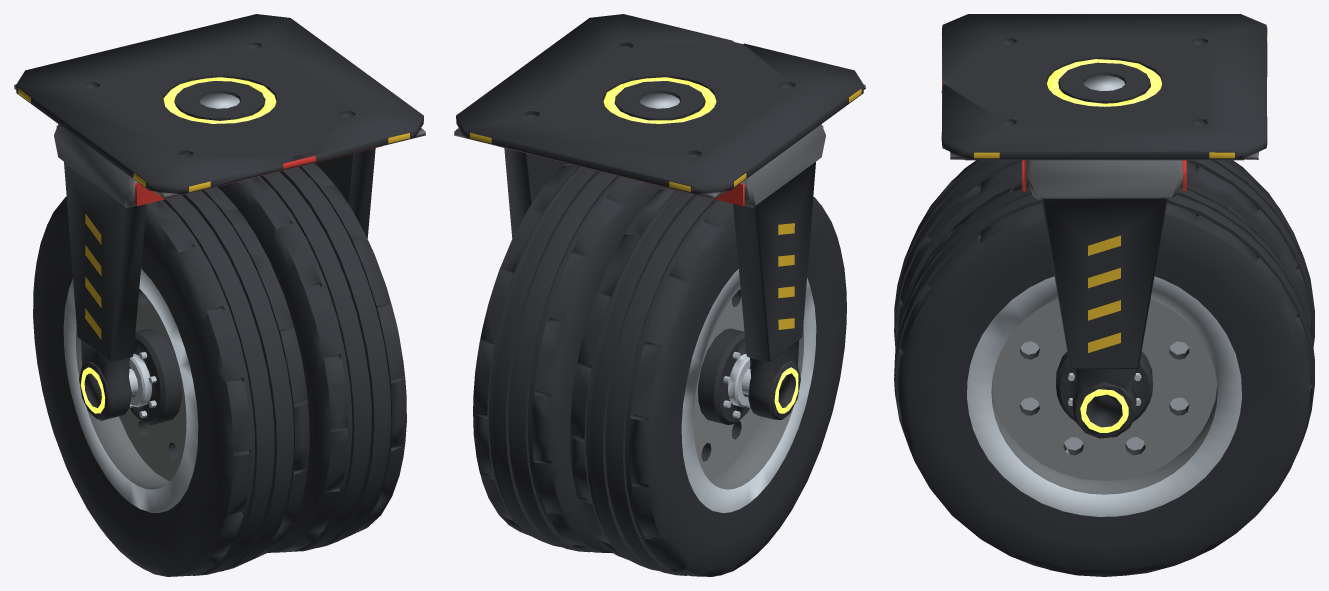
Rendered from R4M_WheelM_Twin_Road_LOD1.fbx.
3 views of the same model, side by side, from view 1: azimuth 30°, elevation 25°; view 2: azimuth 150°, elevation 25°; view 3: azimuth 270°, elevation 25° (orthographic). The views are drawn at different scales.
Parts seen in each view (by area): view 1: R4M_WheelM_Twin_Road_Rotor_LOD1, R4M_WheelM_Twin_Road_Mount_LOD1; view 2: R4M_WheelM_Twin_Road_Rotor_LOD1, R4M_WheelM_Twin_Road_Mount_LOD1; view 3: R4M_WheelM_Twin_Road_Rotor_LOD1, R4M_WheelM_Twin_Road_Mount_LOD1.
Part boxes in pixels (x1,y1,x2,y2): R4M_WheelM_Twin_Road_Rotor_LOD1: [33, 163, 406, 576]; R4M_WheelM_Twin_Road_Mount_LOD1: [14, 14, 425, 420]; R4M_WheelM_Twin_Road_Rotor_LOD1: [473, 163, 846, 576]; R4M_WheelM_Twin_Road_Mount_LOD1: [454, 14, 865, 419]; R4M_WheelM_Twin_Road_Rotor_LOD1: [894, 160, 1314, 576]; R4M_WheelM_Twin_Road_Mount_LOD1: [941, 14, 1267, 438].
Size of the model in its own units: 0.5108 by 0.7901 by 0.66.
